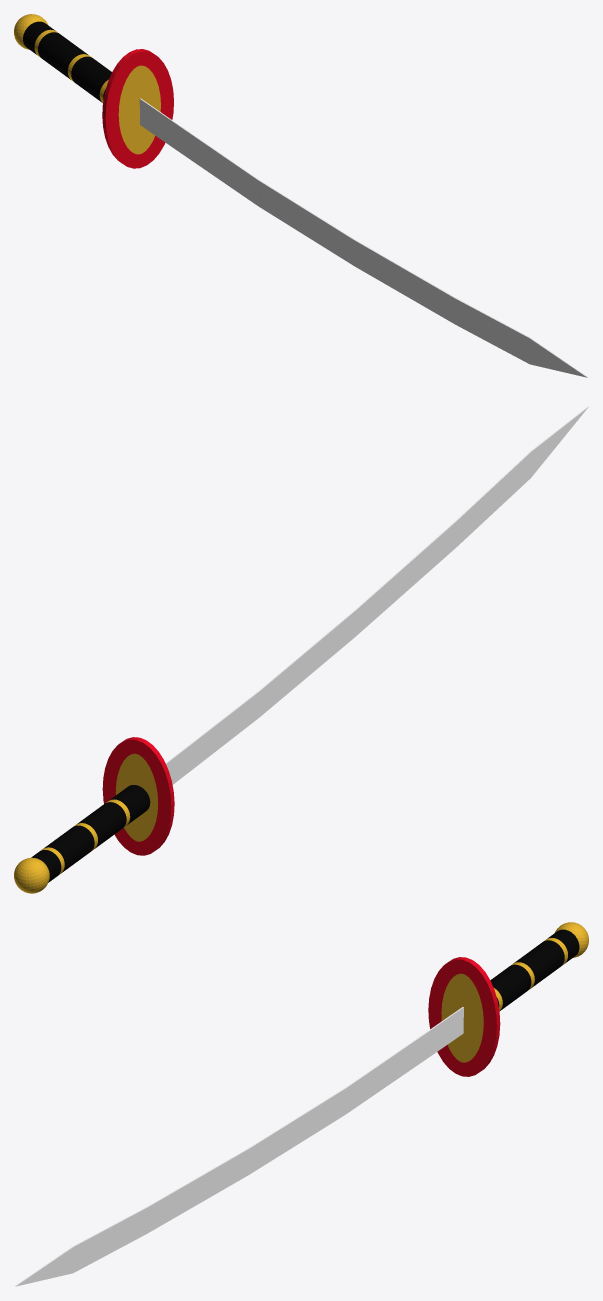
The model's file is Katana.fbx.
3 renders of one model, top to bottom at view 1: azimuth 30°, elevation 25°; view 2: azimuth 150°, elevation 25°; view 3: azimuth 330°, elevation 25°, orthographic.
Parts seen in each view (by area): view 1: Katana; view 2: Katana; view 3: Katana.
Boxes of the visible parts, x1,y1,x2,y2 form: Katana: [14, 14, 588, 377]; Katana: [14, 406, 588, 893]; Katana: [14, 922, 588, 1286].
Bounding box in the file's own units: 0.0798 × 0.1313 × 1.14.
